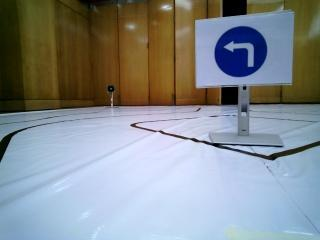left: (203, 23, 288, 81)
